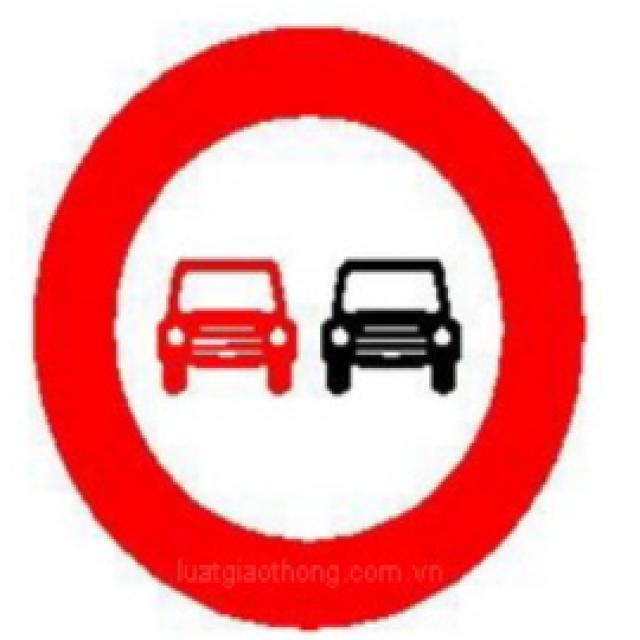Bien bao cam re phai: (318, 254, 462, 396)
Bien bao cam vuot: (25, 16, 607, 640)
